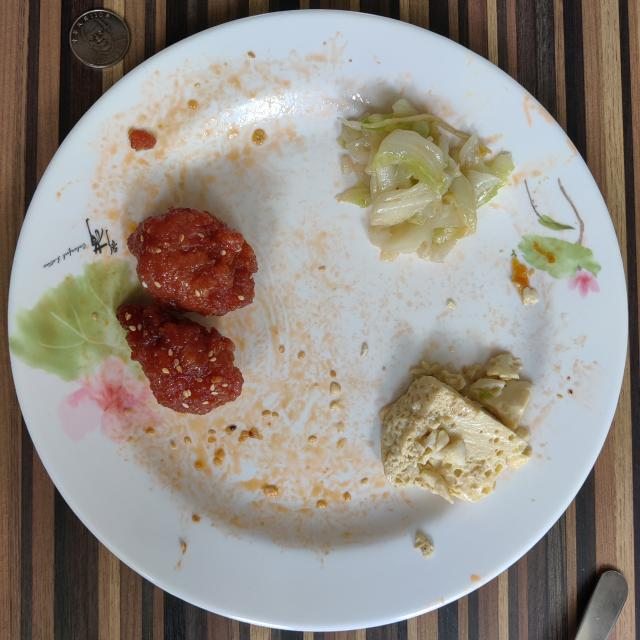cabbage: (336, 99, 514, 262)
coin: (70, 10, 130, 68)
